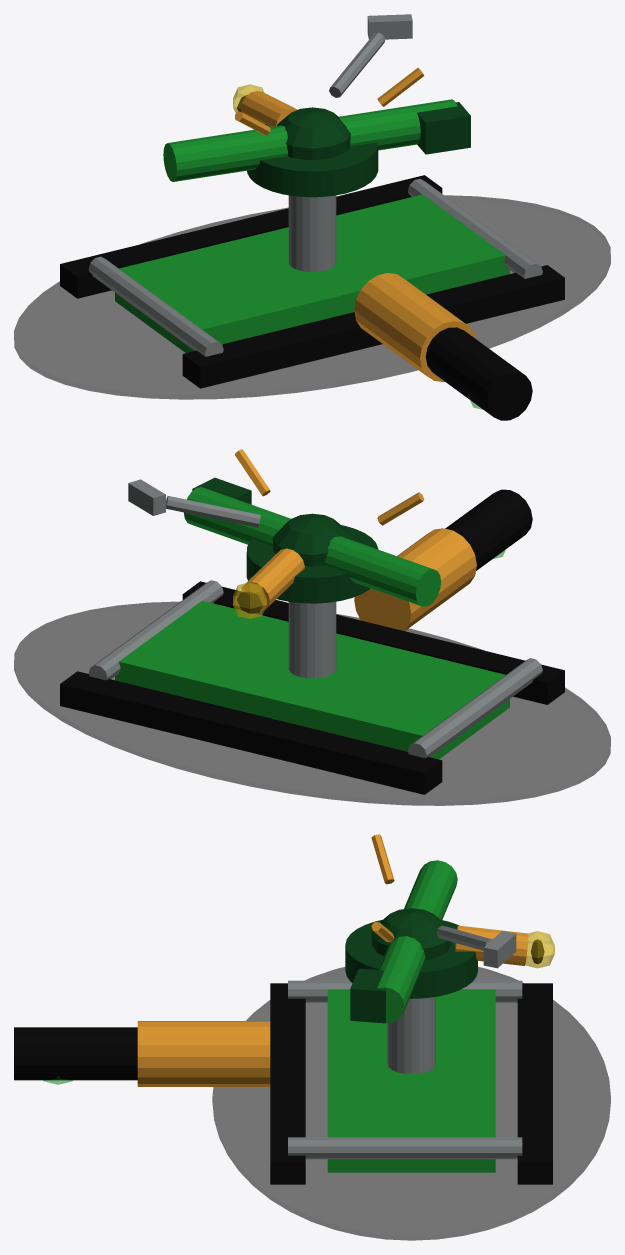
File: rotating_lawn_sprinkler_no_water.obj
3 views of the same model, one above another, from view 1: azimuth 30°, elevation 25°; view 2: azimuth 150°, elevation 25°; view 3: azimuth 270°, elevation 25° (orthographic).
Visible parts, largest first — view 1: Subtle_ground_shadow, Green_rectangular_sled_base, Black_rubber_rear_foot, Rotating_sprinkler_head_bar, Black_rubber_front_foot, Rear_hose_connector_nozzle, Short_black_hose_stub, Round_rotation_joint_disc, Central_rotating_riser_pipe, Left_metal_sled_runner, Central_rotating_head_hub, Right_metal_sled_runner (+5 smaller); view 2: Subtle_ground_shadow, Green_rectangular_sled_base, Black_rubber_front_foot, Rotating_sprinkler_head_bar, Black_rubber_rear_foot, Rear_hose_connector_nozzle, Short_black_hose_stub, Central_rotating_riser_pipe, Round_rotation_joint_disc, Left_metal_sled_runner, Central_rotating_head_hub, Right_metal_sled_runner (+7 smaller); view 3: Subtle_ground_shadow, Green_rectangular_sled_base, Rear_hose_connector_nozzle, Black_rubber_front_foot, Black_rubber_rear_foot, Short_black_hose_stub, Right_metal_sled_runner, Rotating_sprinkler_head_bar, Round_rotation_joint_disc, Central_rotating_riser_pipe, Central_rotating_head_hub, Left_metal_sled_runner (+5 smaller).
Boxes of the visible parts, x1,y1,x2,y2 form: Subtle_ground_shadow: (14,195,610,399); Green_rectangular_sled_base: (115,194,509,352); Black_rubber_rear_foot: (182,265,564,388); Rotating_sprinkler_head_bar: (163,99,457,181); Black_rubber_front_foot: (60,175,442,298); Rear_hose_connector_nozzle: (354,273,475,381); Short_black_hose_stub: (425,327,532,420); Round_rotation_joint_disc: (247,124,378,197); Central_rotating_riser_pipe: (288,195,336,271); Left_metal_sled_runner: (88,256,223,356); Central_rotating_head_hub: (277,107,350,160); Right_metal_sled_runner: (408,179,542,278); Subtle_ground_shadow: (14,601,610,805); Green_rectangular_sled_base: (115,600,509,759); Black_rubber_front_foot: (60,671,442,794); Rotating_sprinkler_head_bar: (184,487,441,606); Black_rubber_rear_foot: (182,581,564,704); Rear_hose_connector_nozzle: (354,528,476,630); Short_black_hose_stub: (445,489,532,570); Central_rotating_riser_pipe: (288,601,336,678); Round_rotation_joint_disc: (246,525,378,603); Left_metal_sled_runner: (408,658,542,758); Central_rotating_head_hub: (273,513,351,566); Right_metal_sled_runner: (88,580,223,680); Subtle_ground_shadow: (212,967,610,1240); Green_rectangular_sled_base: (327,989,495,1172); Rear_hose_connector_nozzle: (137,1021,270,1086); Black_rubber_front_foot: (517,983,552,1184); Black_rubber_rear_foot: (270,983,305,1184); Short_black_hose_stub: (14,1027,137,1080); Right_metal_sled_runner: (288,1137,522,1159); Rotating_sprinkler_head_bar: (377,860,457,1023); Round_rotation_joint_disc: (345,920,477,998); Central_rotating_riser_pipe: (387,997,435,1074); Central_rotating_head_hub: (371,908,451,959); Left_metal_sled_runner: (288,980,522,1002).
Size of what is drawn, in the model's own units: 1.49 by 0.5584 by 1.35.
